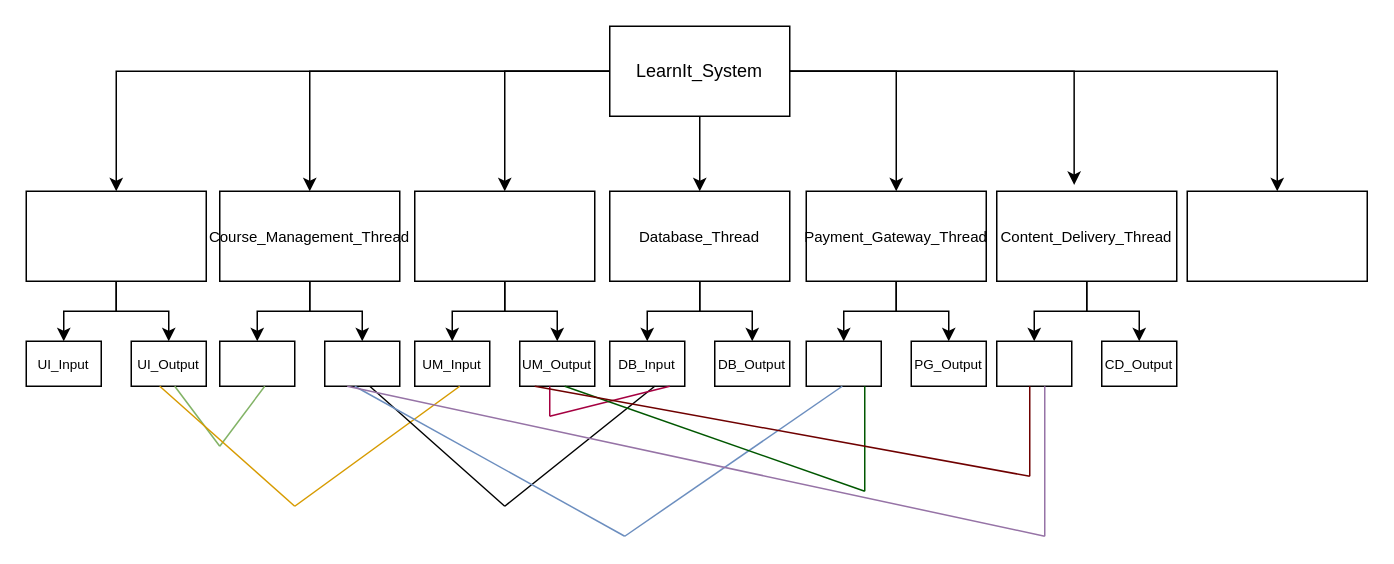
Image size: 1394x564. Some labels were removed from this diagram. Each missing label, with the box of its shape:
CD_Input: (995, 340, 1072, 386)
CM_Input: (218, 340, 295, 386)
CM_Output: (323, 340, 400, 386)
Main_Process: (1186, 190, 1367, 281)
PG_Input: (805, 340, 881, 386)
User_Interface_Thread: (25, 190, 206, 281)
User_Management_Thread: (413, 190, 595, 281)
